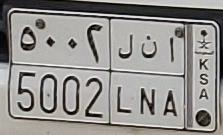0: (39, 35, 59, 114), (62, 37, 81, 116)
2: (84, 23, 104, 119)
5: (16, 26, 35, 112)
A: (162, 37, 179, 118)
L: (117, 33, 134, 114)
N: (140, 34, 158, 116)
